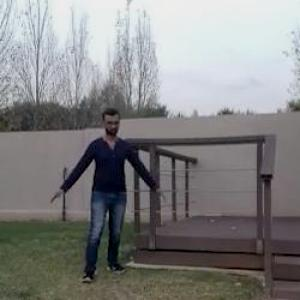land: (49, 96, 170, 299)
